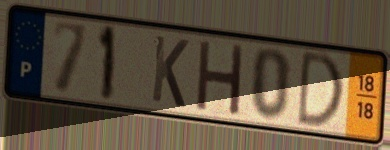0: (249, 45, 293, 124)
1: (94, 22, 117, 103)
7: (51, 19, 89, 96)
D: (294, 48, 346, 130)
H: (194, 37, 248, 119)
K: (149, 32, 191, 111)
